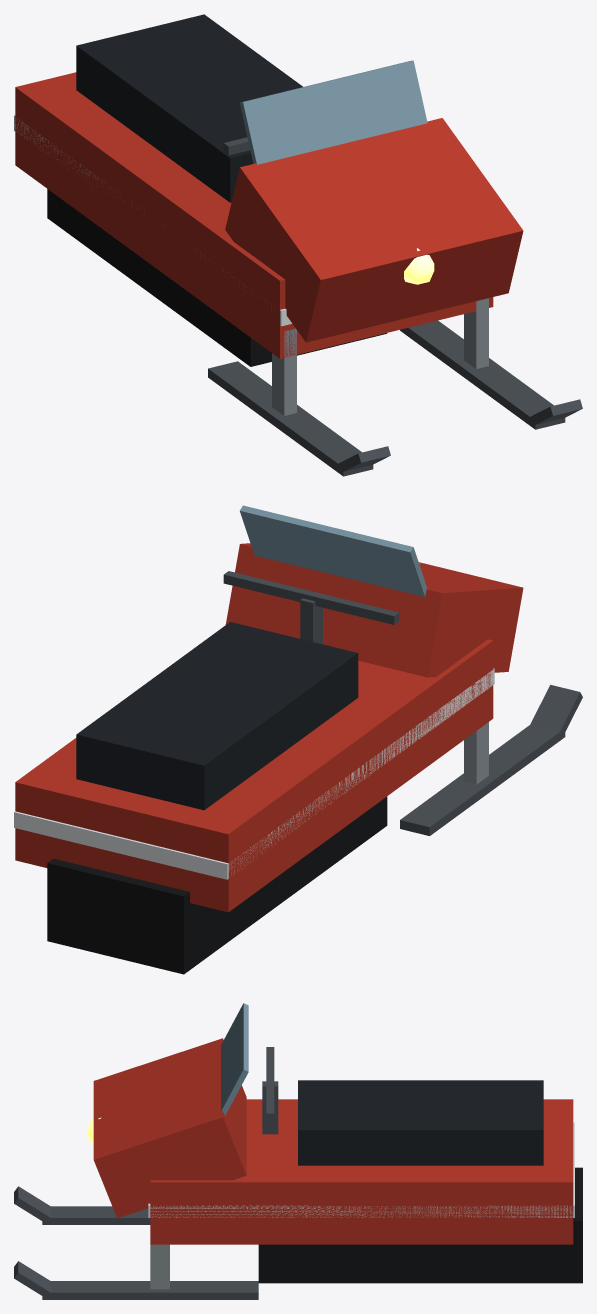
The model's file is so_snowmobile.glb.
3 renders of one model, top to bottom at view 1: azimuth 30°, elevation 25°; view 2: azimuth 150°, elevation 25°; view 3: azimuth 270°, elevation 25°, orthographic. The views are drawn at different scales.
Visible parts, largest first — view 1: so_snowmobile; view 2: so_snowmobile; view 3: so_snowmobile.
Part boxes in pixels (x1,y1,x2,y2): so_snowmobile: (14,14,582,476); so_snowmobile: (14,505,582,974); so_snowmobile: (14,1003,582,1299).
Bounding box in the file's own units: 1.04 × 1.24 × 2.9.
